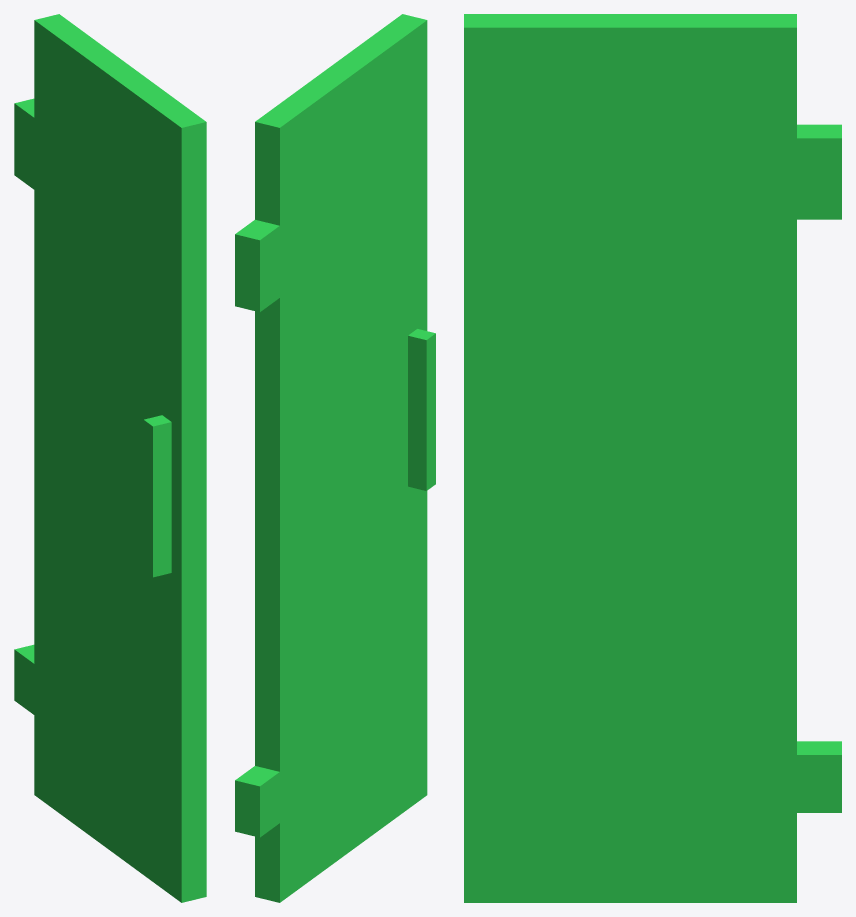
File: Cupboard_Door_Left.fbx
3 views of the same model, side by side, from view 1: azimuth 30°, elevation 25°; view 2: azimuth 150°, elevation 25°; view 3: azimuth 270°, elevation 25° (orthographic). The views are drawn at different scales.
Visible parts, largest first — view 1: Cube.111; view 2: Cube.111; view 3: Cube.111.
Part boxes in pixels (x1=…): Cube.111: x1=14, y1=14, x2=206, y2=902; Cube.111: x1=235, y1=14, x2=435, y2=902; Cube.111: x1=464, y1=14, x2=841, y2=902.
Bounding box in the file's own units: 12.11 × 206 × 80.43.
